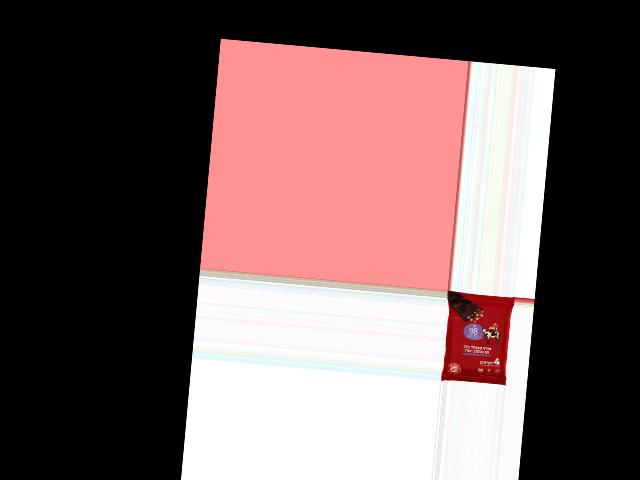chocolate: (442, 292, 514, 386)
